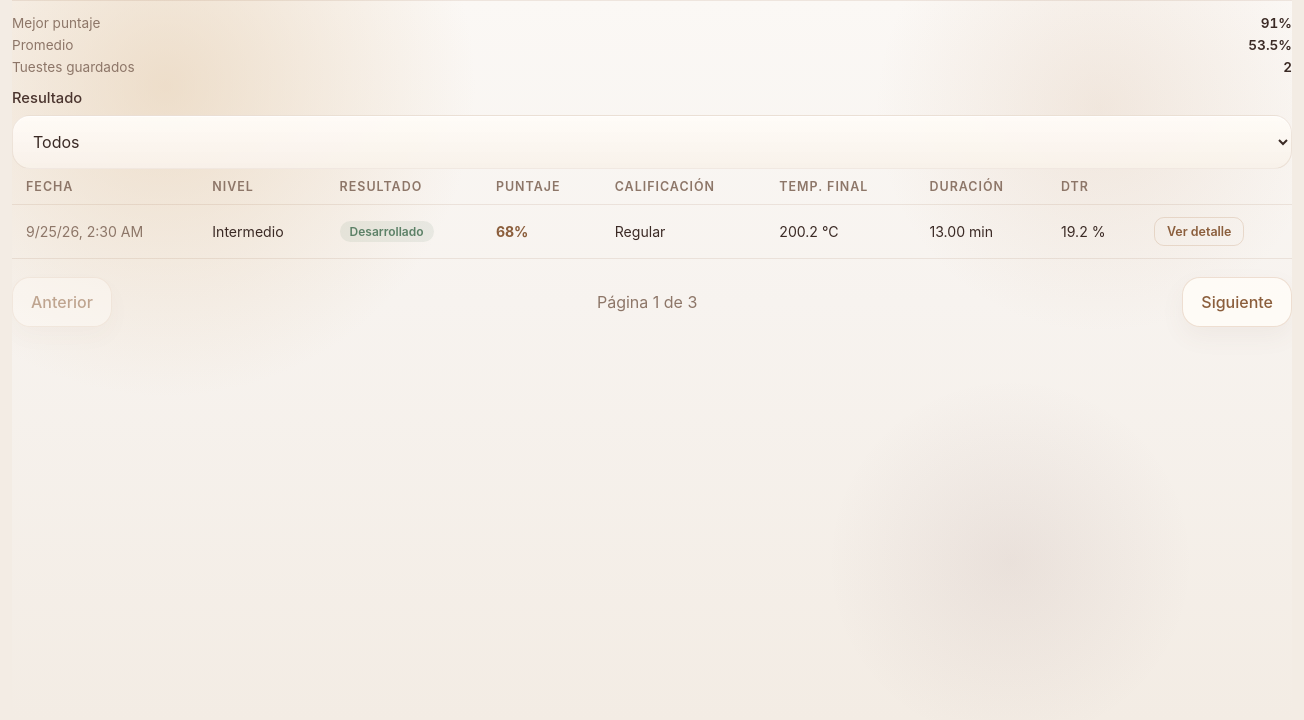
Test: SessionHistoryView › filters by result starting again from the first page
The width and height of the screenshot is (1304, 720).
Click the button "Siguiente" at {"x": 1237, "y": 302}, box [1182,277,1292,327]
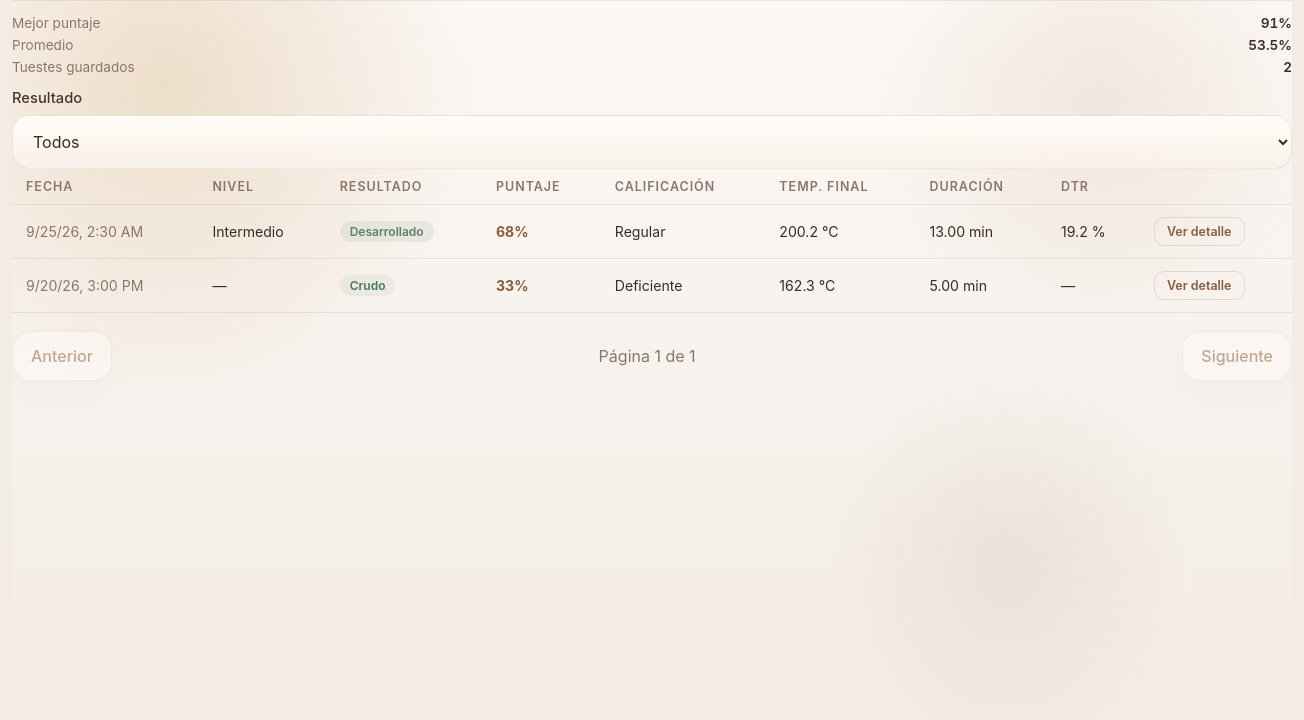
Select "Quemado" in the dropdown at {"x": 652, "y": 142}, box [12,115,1292,169]
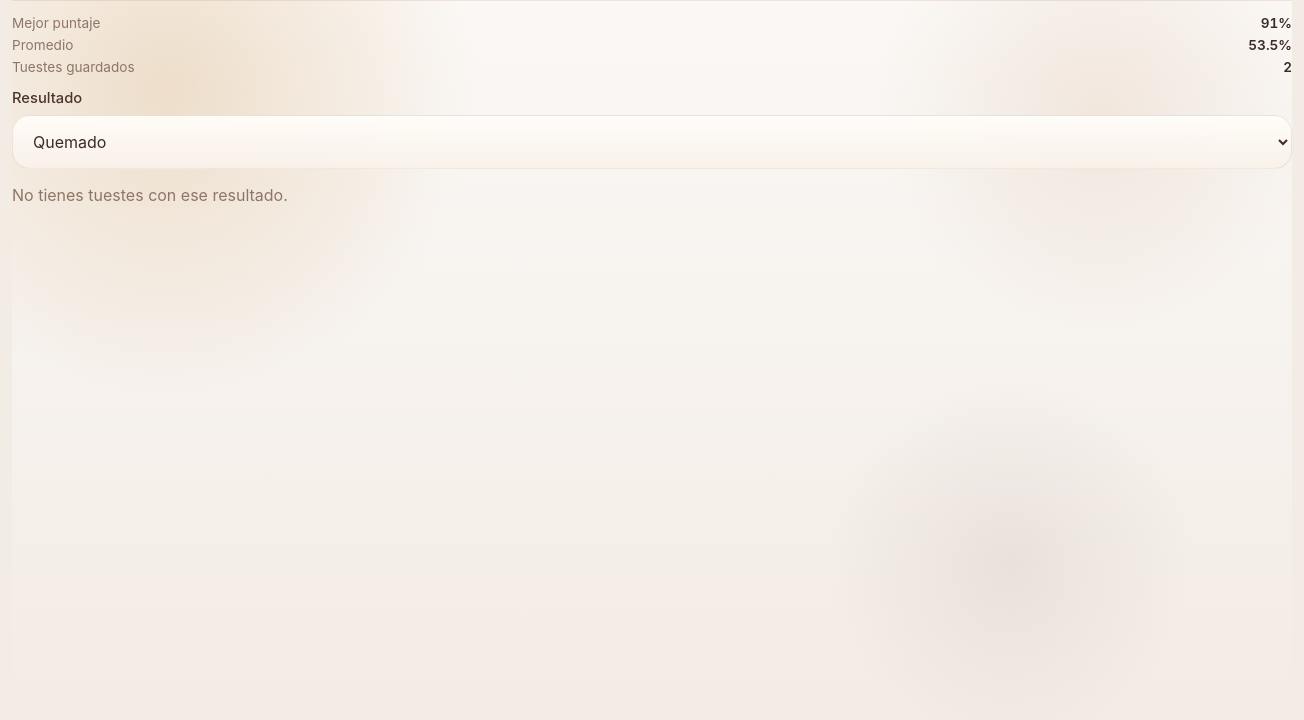
Result: the text "No tienes tuestes con ese resultado." is shown at [12,185,288,205]
